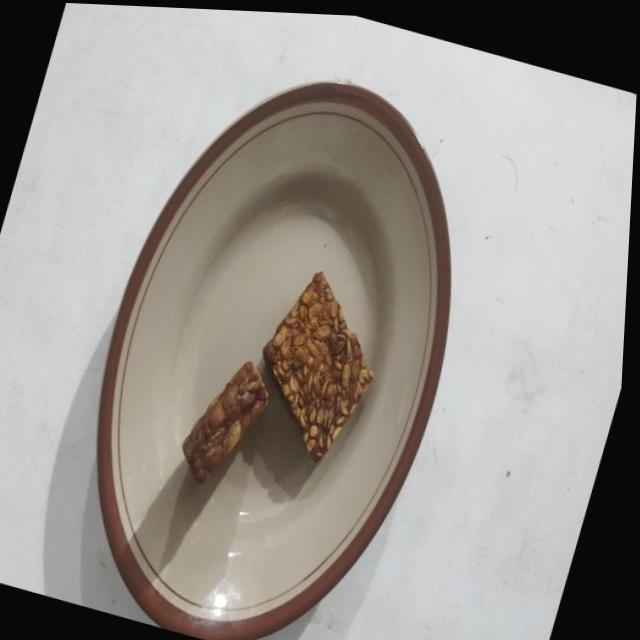tempe_goreng: (262, 271, 372, 461), (182, 361, 267, 482)
